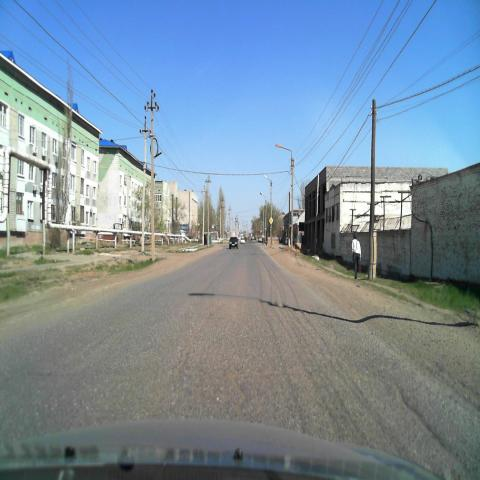2_1: (269, 217, 273, 224)
